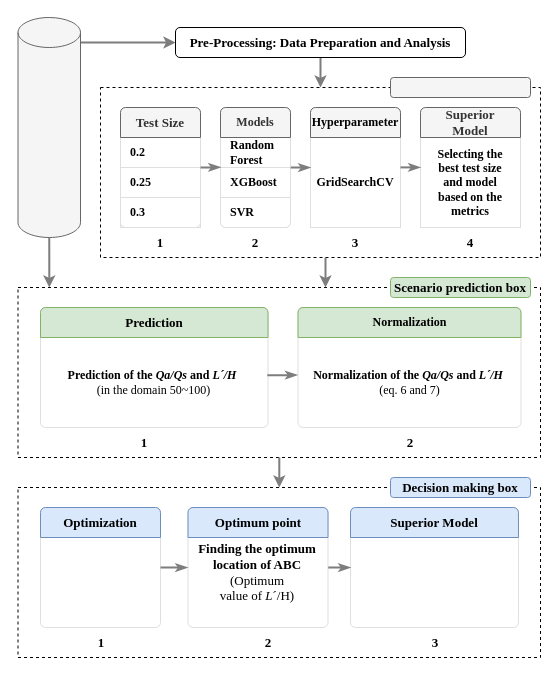
This 558x675 diagram has some shape labels left out. The shapes that lost their labels are listed below. From the top down, each one's centre as x and y in pixels, then its label:
At point (460, 87): "ML development box".
At point (48, 127): "Dataset".
At point (100, 567): "Calculation of the decision score (eq. 8)".
At point (434, 567): "Checking the Qa/Qs and Lˊ/H importance weight on decision-making (eq. 9 - 10)".
